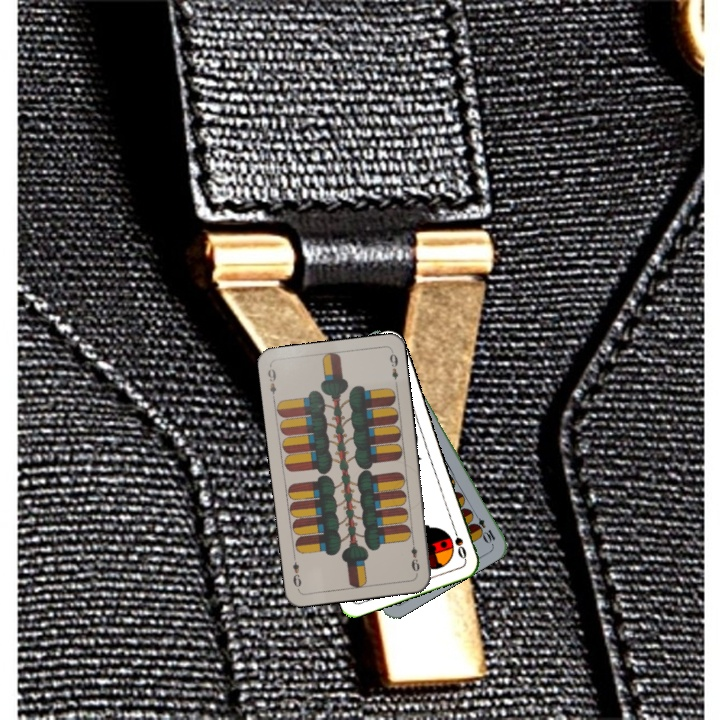E10: (468, 508, 498, 546)
E9: (407, 536, 422, 574), (264, 365, 279, 403)
SO: (449, 522, 469, 562)
